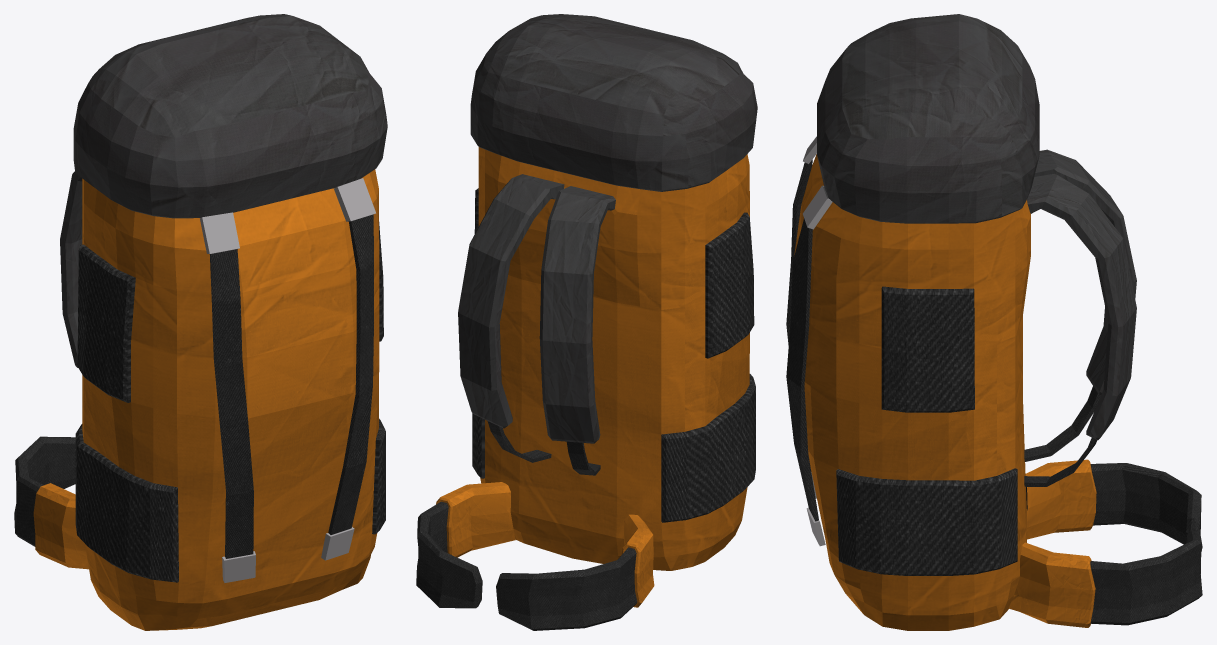
Rendered from Pack.fbx.
The picture shows the model from 3 angles, left to right: view 1: azimuth 30°, elevation 25°; view 2: azimuth 150°, elevation 25°; view 3: azimuth 270°, elevation 25°; orthographic projection. The views are drawn at different scales.
Parts seen in each view (by area): view 1: Cube; view 2: Cube; view 3: Cube.
Boxes of the visible parts, bbox=[...] form: Cube: bbox=[14, 14, 387, 630]; Cube: bbox=[416, 14, 757, 630]; Cube: bbox=[786, 14, 1202, 630].
Bounding box in the file's own units: 224 × 440 × 306.
Materials: 4 (3 with a texture image).
